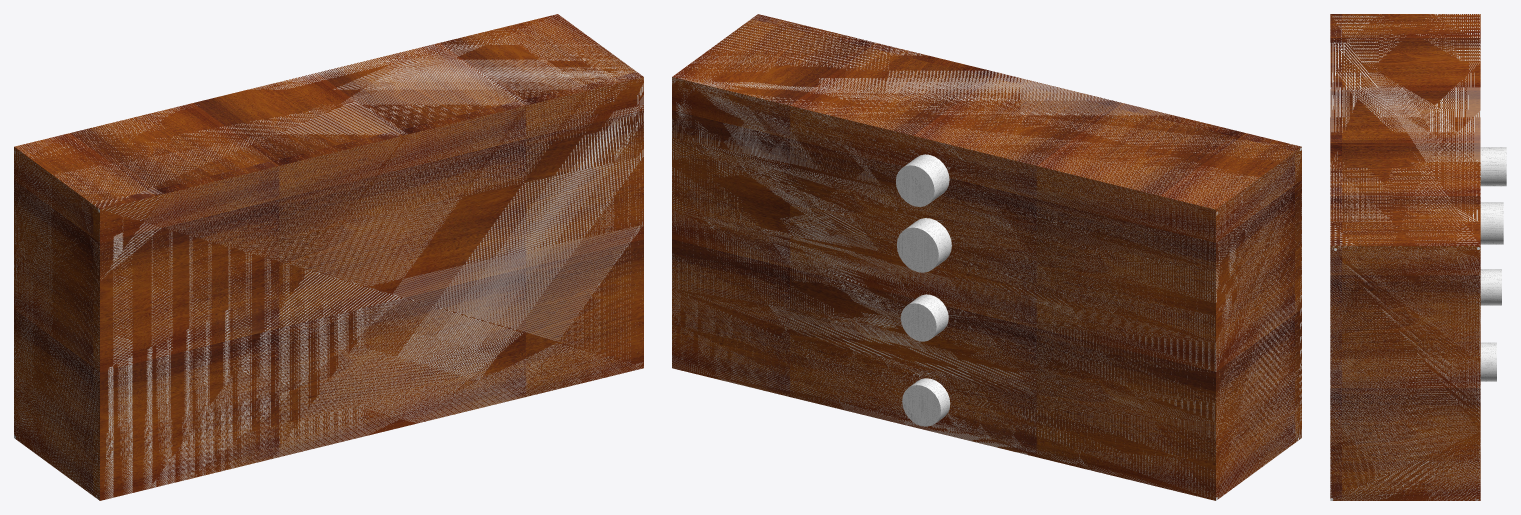
The picture shows the model from 3 angles, left to right: view 1: azimuth 30°, elevation 25°; view 2: azimuth 150°, elevation 25°; view 3: azimuth 270°, elevation 25°; orthographic projection. The views are drawn at different scales.
Visible parts, largest first — view 1: mesh1_mesh1-geometry; view 2: mesh1_mesh1-geometry; view 3: mesh1_mesh1-geometry.
Part boxes in pixels (bbox=[...]): mesh1_mesh1-geometry: bbox=[14, 14, 643, 500]; mesh1_mesh1-geometry: bbox=[672, 14, 1301, 500]; mesh1_mesh1-geometry: bbox=[1330, 14, 1506, 500].
Size of the model in its own units: 0.8558 by 0.4381 by 0.2751.
